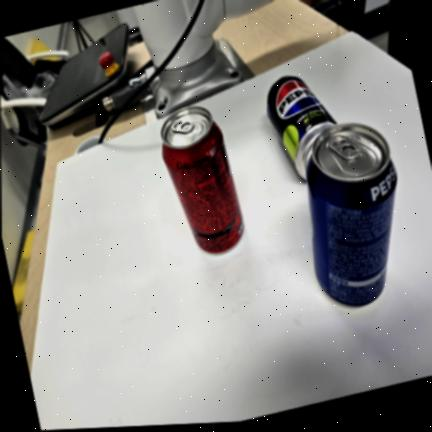can_coke_zero: (162, 106, 244, 253)
can_pepsi: (306, 123, 397, 306)
can_pepsi_zero: (267, 76, 336, 177)
